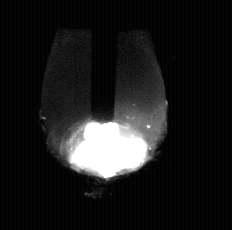arame: (91, 0, 117, 123)
poca: (38, 0, 167, 230)
